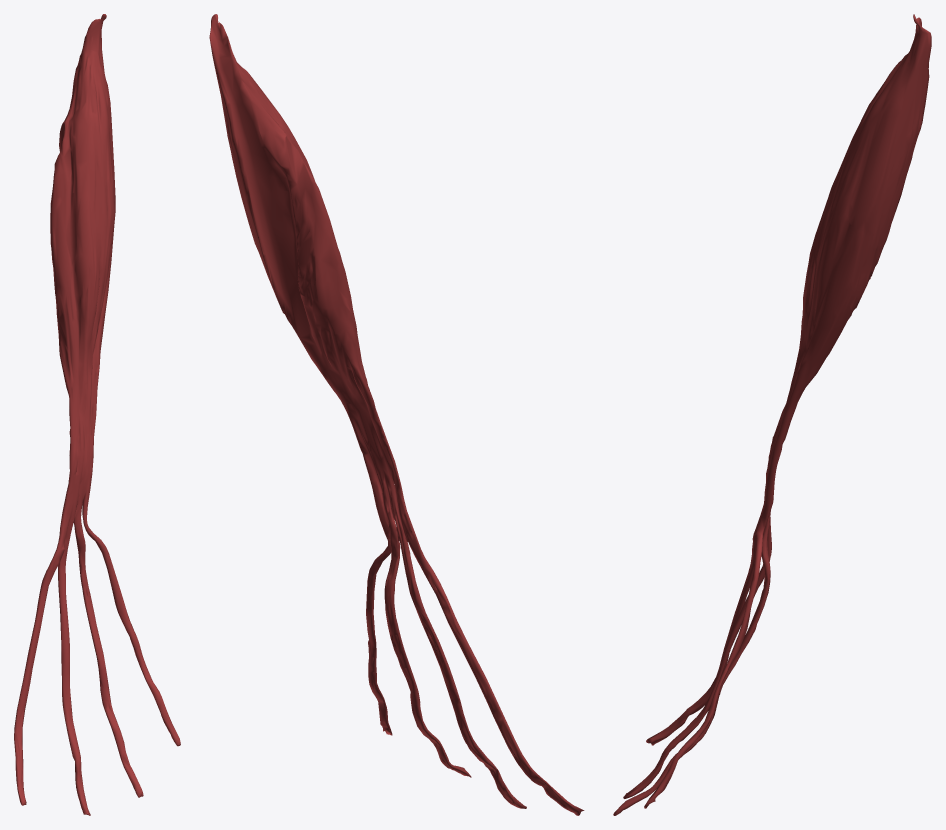
File: flexor-digitorum-profundus-r.glb
3 views of the same model, side by side, from view 1: azimuth 30°, elevation 25°; view 2: azimuth 150°, elevation 25°; view 3: azimuth 270°, elevation 25° (orthographic). The views are drawn at different scales.
Parts seen in each view (by area): view 1: Flexor digitorum profundus.r; view 2: Flexor digitorum profundus.r; view 3: Flexor digitorum profundus.r.
Boxes of the visible parts, left/top/right/bottom form: Flexor digitorum profundus.r: left=14, top=14, right=180, bottom=815; Flexor digitorum profundus.r: left=209, top=14, right=584, bottom=815; Flexor digitorum profundus.r: left=613, top=14, right=931, bottom=815.
Size of the model in its own units: 0.1065 by 0.365 by 0.1221.
